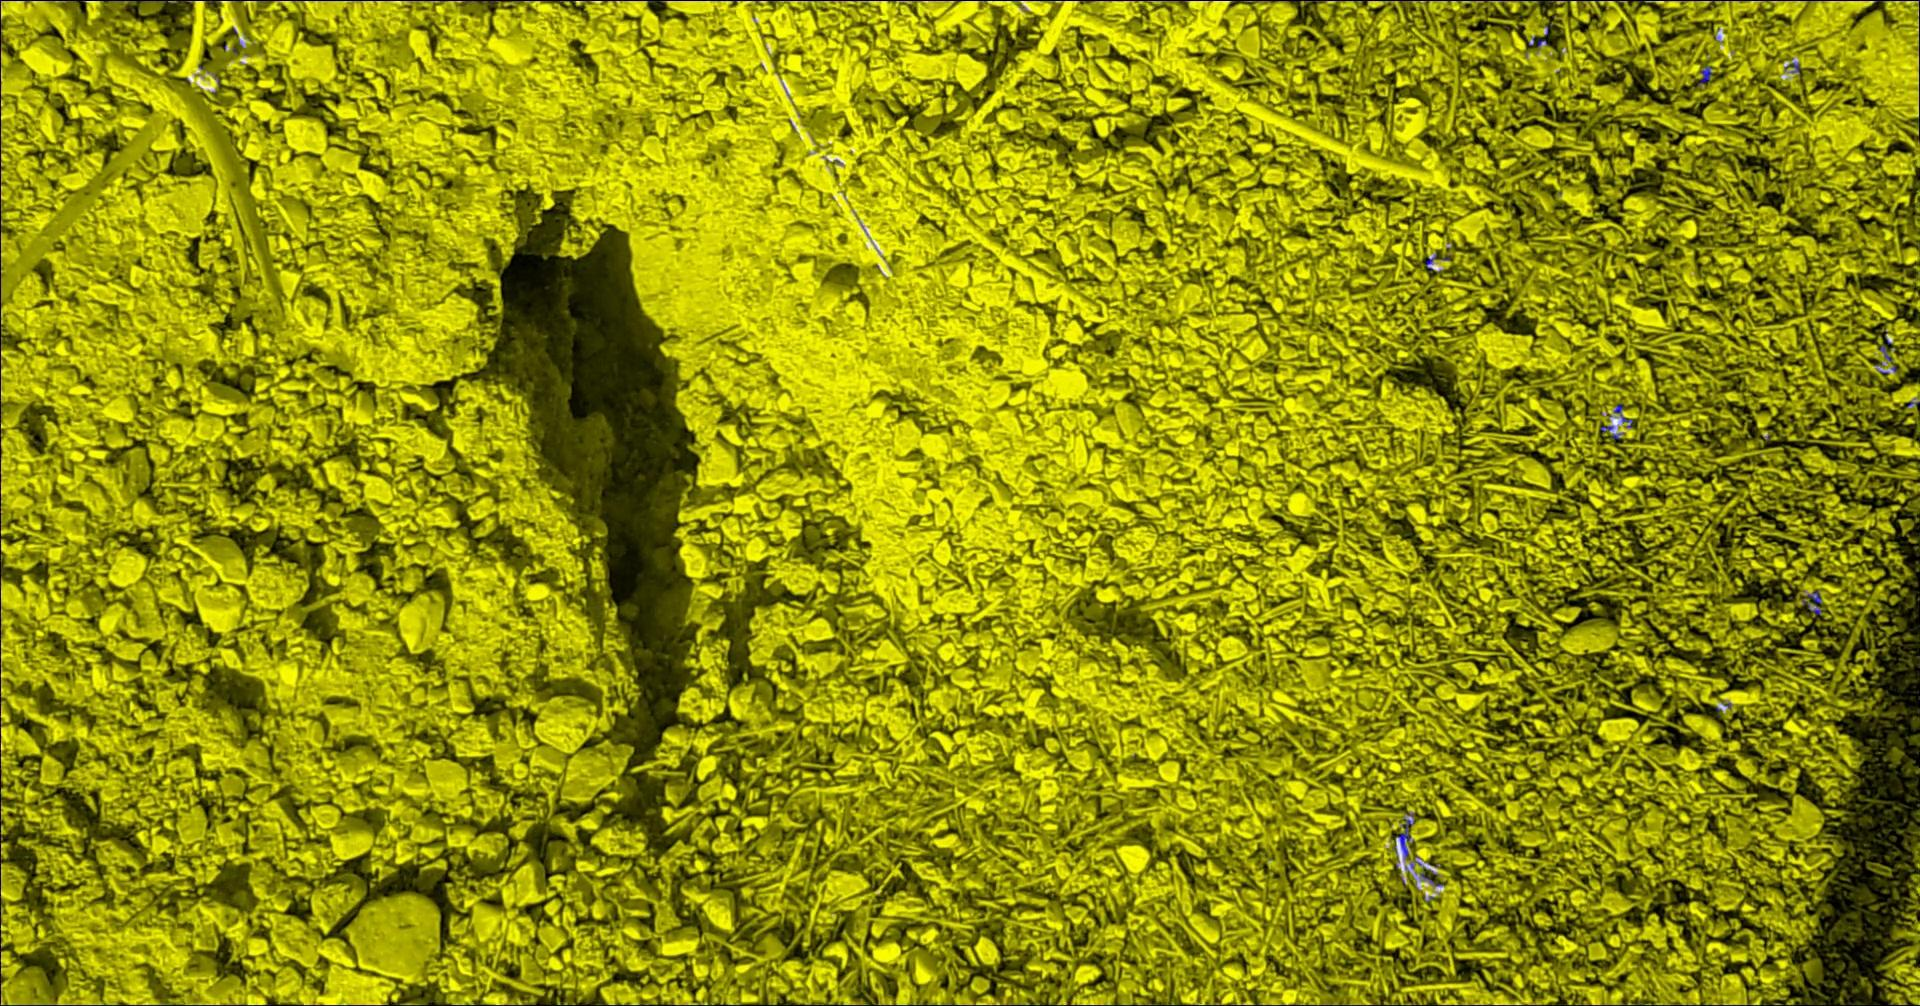ant: (1394, 812, 1415, 857), (1528, 23, 1552, 47), (1613, 403, 1632, 427), (1806, 589, 1822, 614), (1697, 65, 1710, 86)
